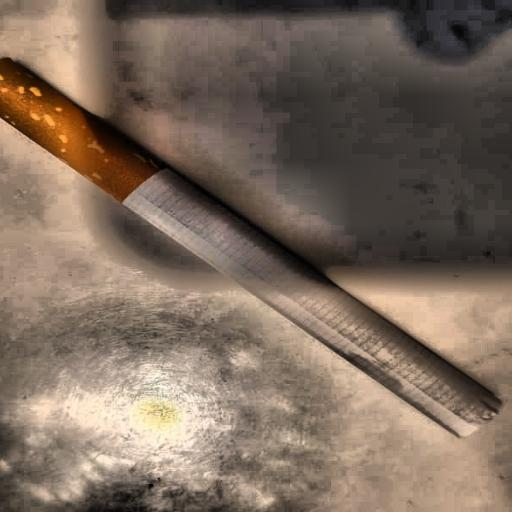Merokok: (0, 59, 500, 436)
